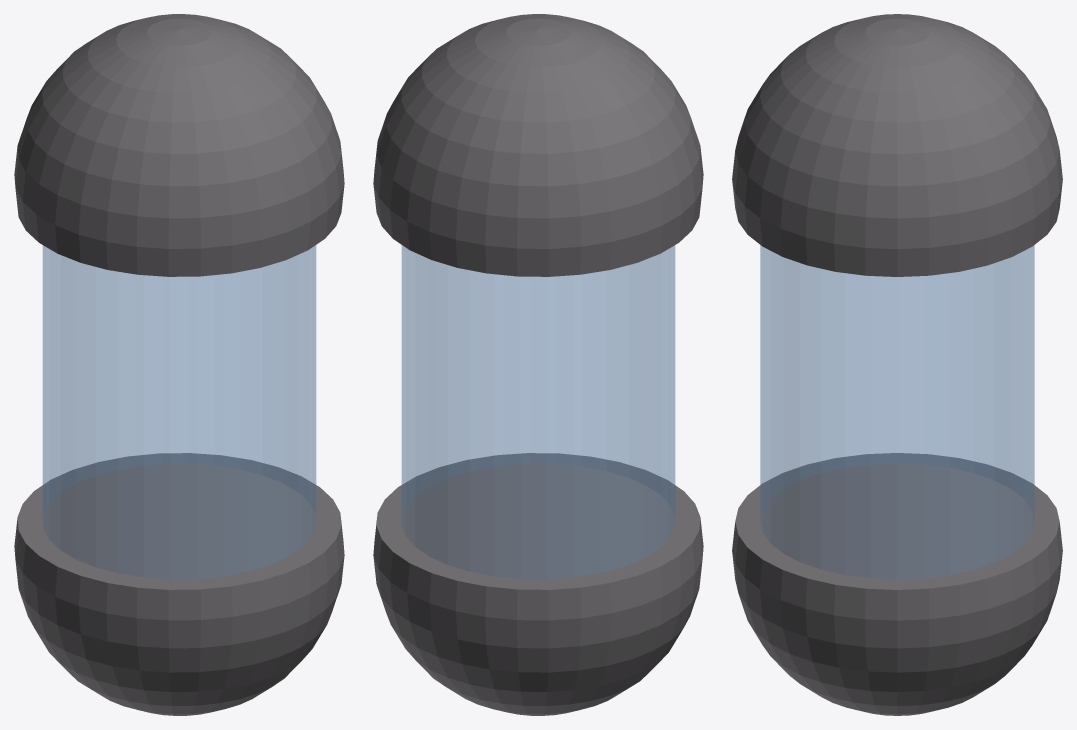
File: incubator.fbx
3 views of the same model, side by side, from view 1: azimuth 30°, elevation 25°; view 2: azimuth 150°, elevation 25°; view 3: azimuth 270°, elevation 25° (orthographic).
Visible parts, largest first — view 1: Cylinder.001; view 2: Cylinder.001; view 3: Cylinder.001.
Part boxes in pixels (x1,y1,x2,y2): Cylinder.001: (14,14,344,715); Cylinder.001: (373,14,703,715); Cylinder.001: (732,14,1062,715).
Size of the model in its own units: 241 by 540 by 241.
